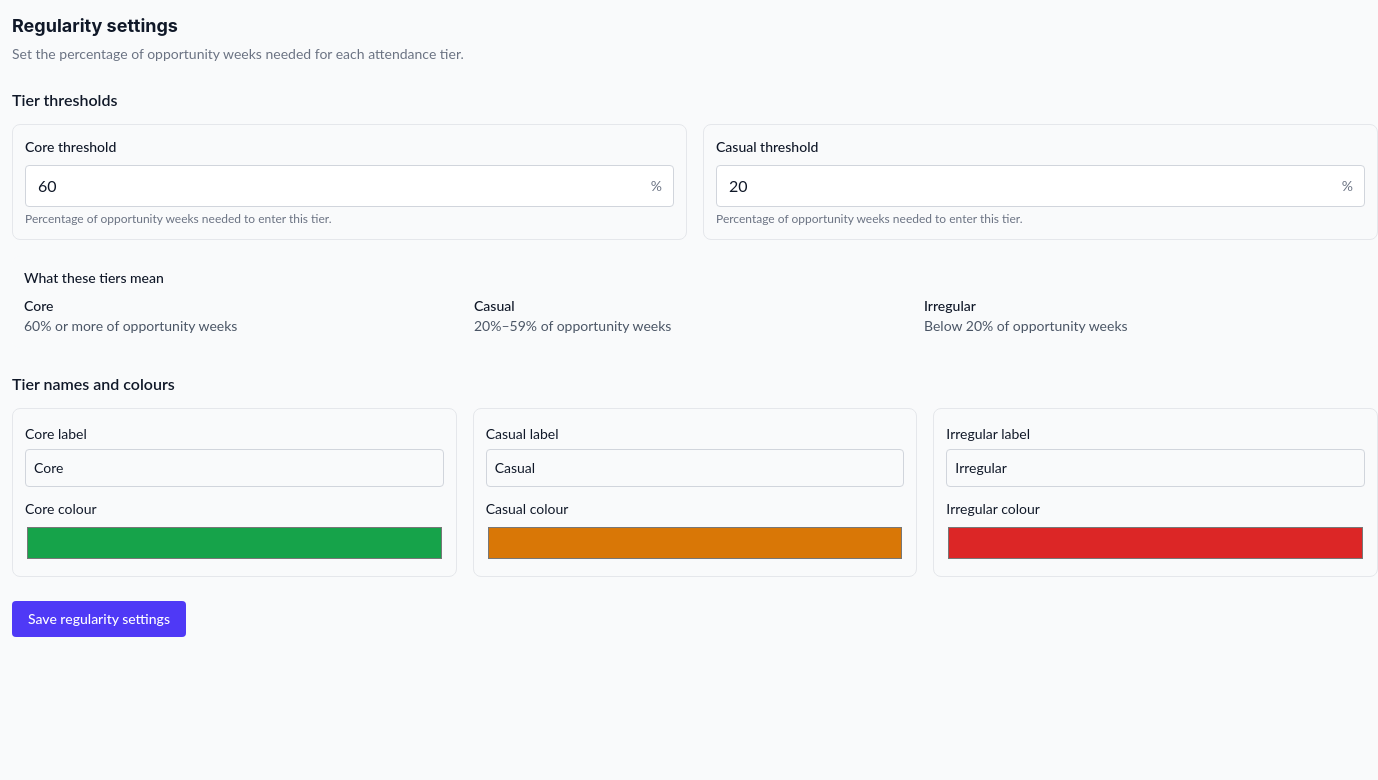
Test: RegularitySettings › blocks invalid thresholds before making a request
Replace the text in the number field named "Casual minimum" with "60" at (1040, 186), box x1=716 y1=165 x2=1365 y2=207
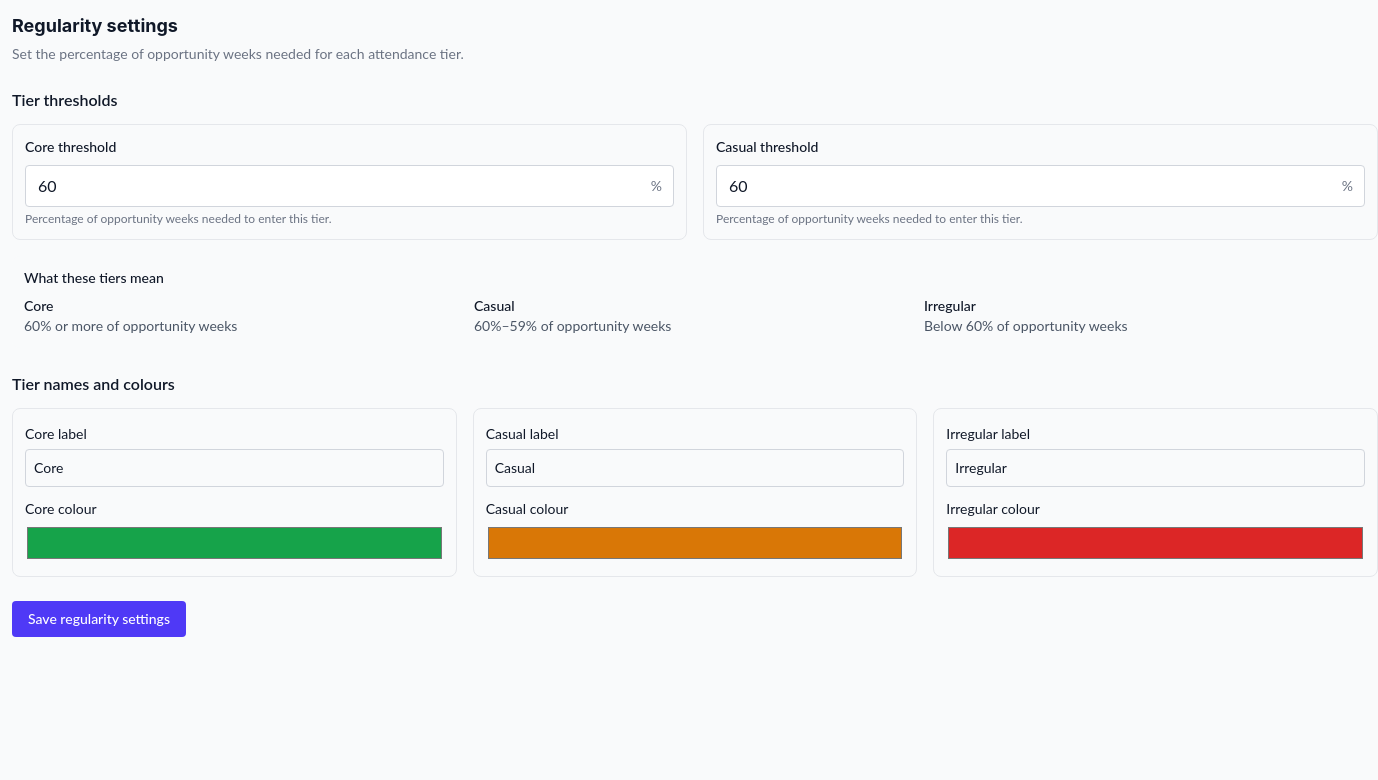
Click the button "Save regularity settings" at (99, 619), box x1=12 y1=601 x2=186 y2=637
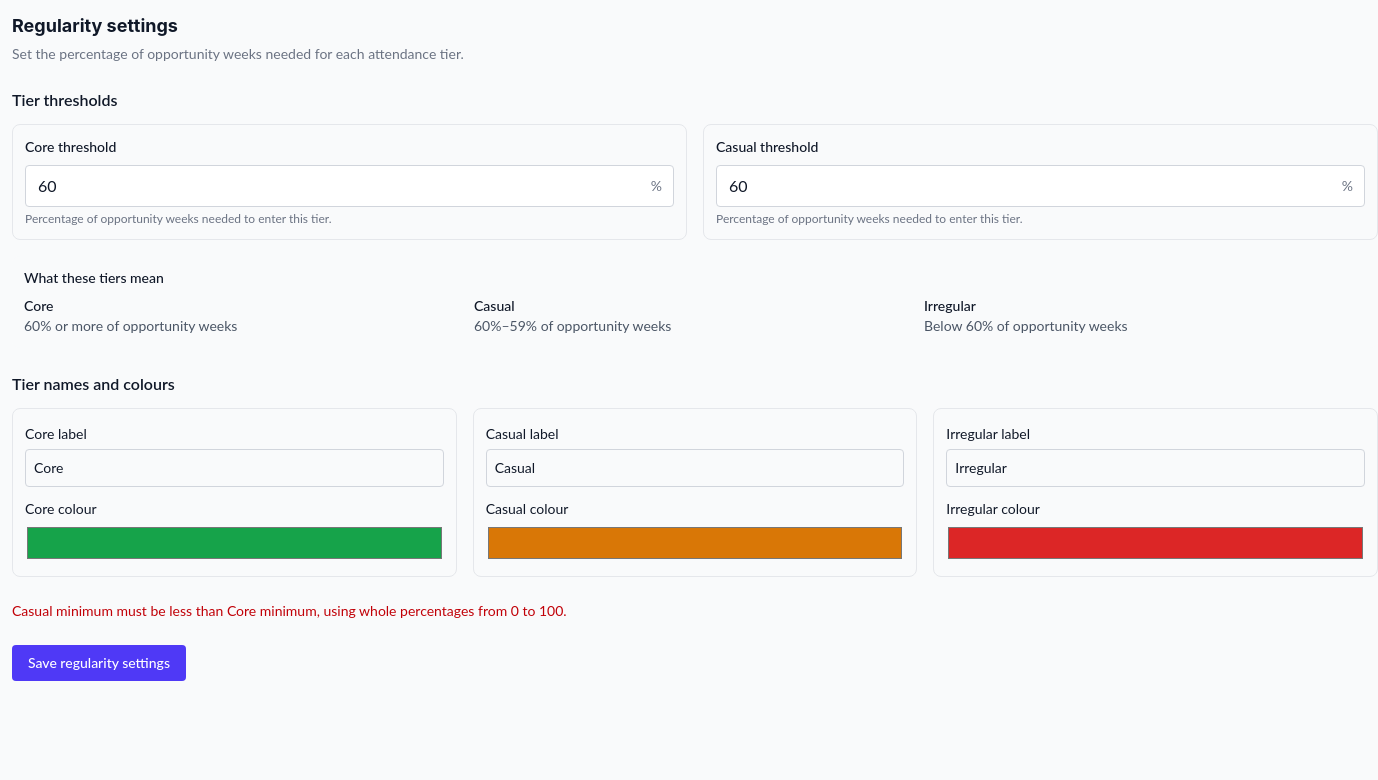
Expected: the message shows "Casual minimum must be less than Core minimum", x1=12 y1=602 x2=567 y2=619
